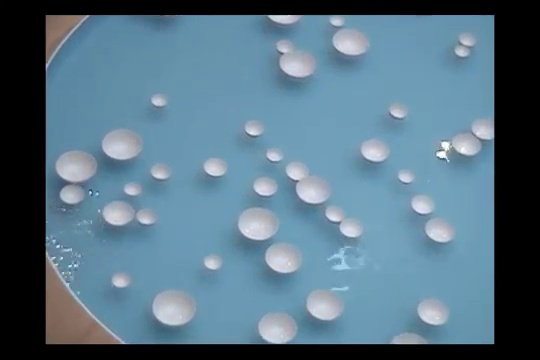bowl: (152, 290, 197, 326), (237, 207, 280, 241), (55, 150, 98, 183), (102, 129, 143, 160), (264, 242, 303, 274), (257, 313, 298, 343), (306, 289, 344, 320), (332, 28, 370, 58), (279, 51, 315, 80), (295, 177, 332, 203), (417, 299, 450, 326), (102, 200, 135, 226), (424, 217, 456, 243), (451, 133, 481, 157), (361, 138, 391, 162), (411, 194, 436, 215), (59, 184, 85, 204), (253, 177, 278, 197), (285, 162, 311, 180), (471, 120, 494, 140), (265, 14, 303, 26), (203, 158, 228, 176), (339, 219, 364, 237), (150, 163, 172, 180), (136, 208, 158, 225), (244, 120, 264, 137), (111, 272, 132, 288), (325, 205, 345, 221), (389, 103, 408, 119), (204, 254, 222, 270), (397, 169, 416, 183), (123, 182, 142, 196), (459, 33, 477, 47), (150, 94, 169, 107), (266, 148, 285, 161), (276, 40, 294, 53), (454, 45, 471, 58), (329, 16, 346, 27)
